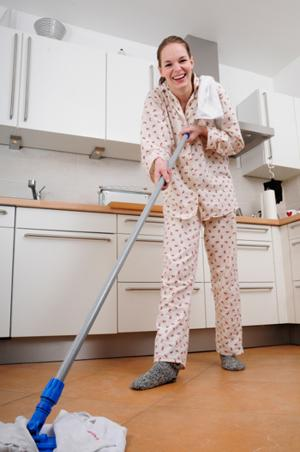person: (131, 37, 248, 391)
